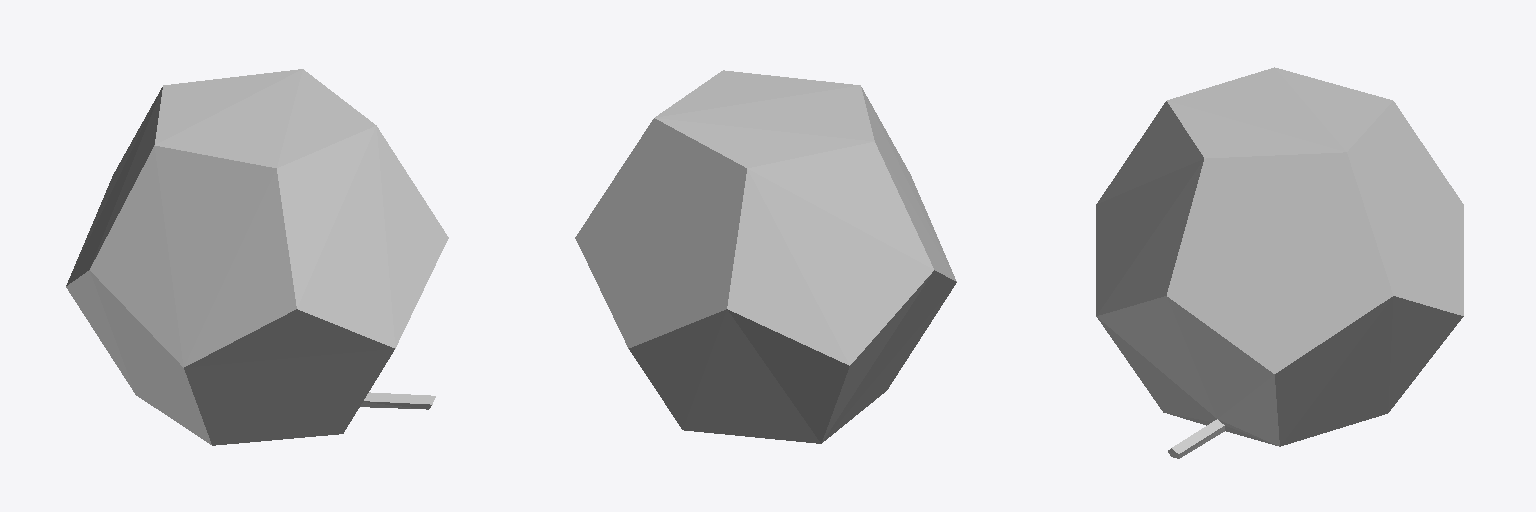
File: arenaSP.obj
3 renders of one model, left to right at view 1: azimuth 30°, elevation 25°; view 2: azimuth 150°, elevation 25°; view 3: azimuth 270°, elevation 25°, orthographic.
Visible parts, largest first — view 1: Arena_Sphere_Icosphere, Tunnel_Icosphere.002; view 2: Arena_Sphere_Icosphere; view 3: Arena_Sphere_Icosphere, Tunnel_Icosphere.002.
Part boxes in pixels (x1,y1,x2,y2): Arena_Sphere_Icosphere: (66,69,448,445); Tunnel_Icosphere.002: (360,392,435,409); Arena_Sphere_Icosphere: (575,70,956,443); Arena_Sphere_Icosphere: (1096,67,1463,446); Tunnel_Icosphere.002: (1168,419,1224,458).
Bounding box in the file's own units: 1.56 × 1.28 × 1.49.